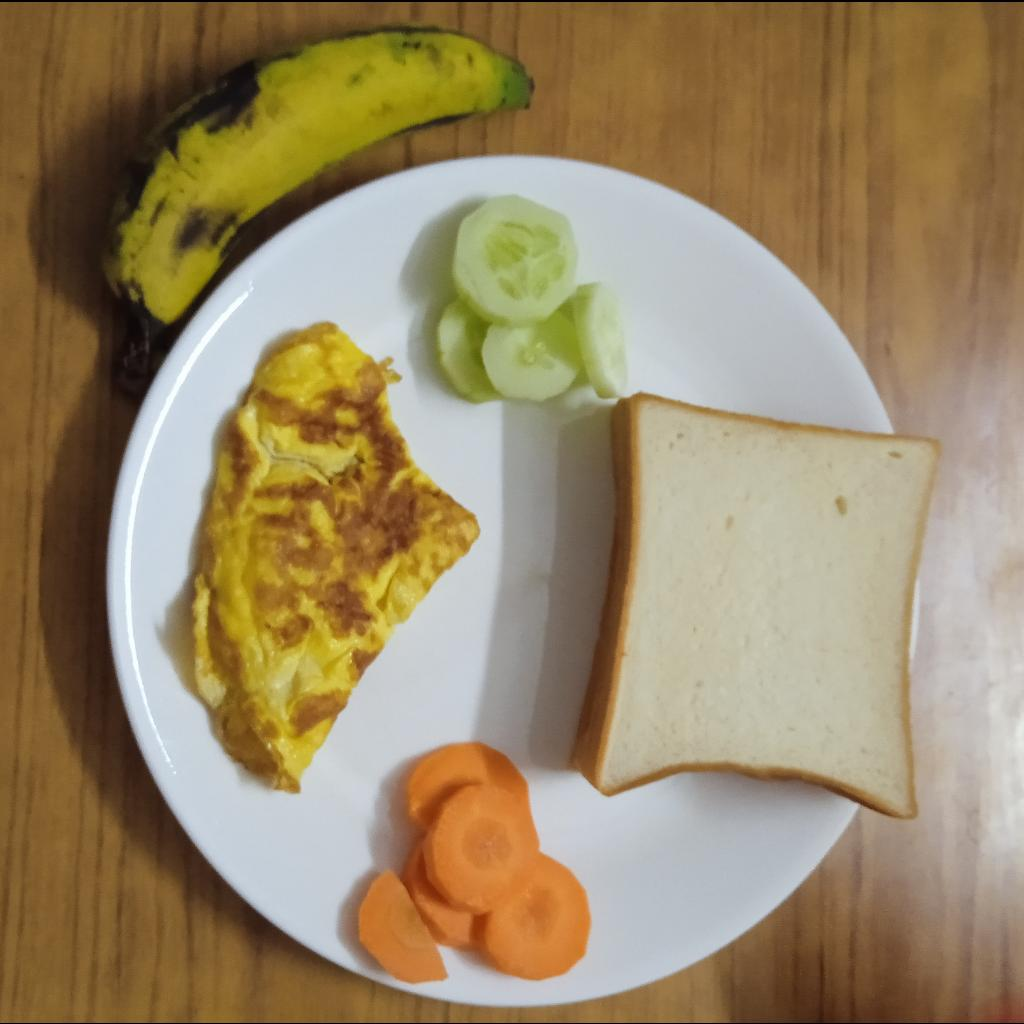banana: (102, 27, 535, 391)
bread: (571, 392, 944, 819)
carrot: (356, 742, 591, 983)
cucumber: (432, 194, 630, 403)
egg-poached: (191, 322, 480, 794)
